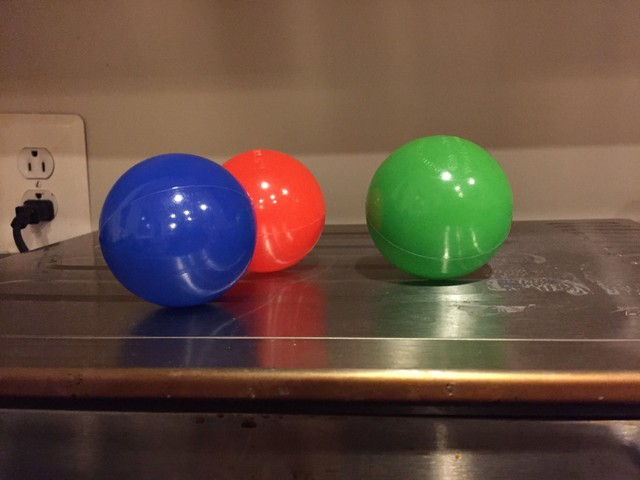Ball: (99, 154, 254, 306)
